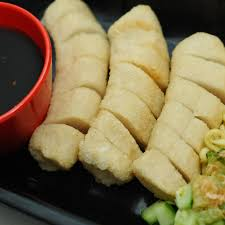Pempek lenjer: (70, 4, 172, 184), (129, 30, 225, 195), (30, 0, 111, 177)
